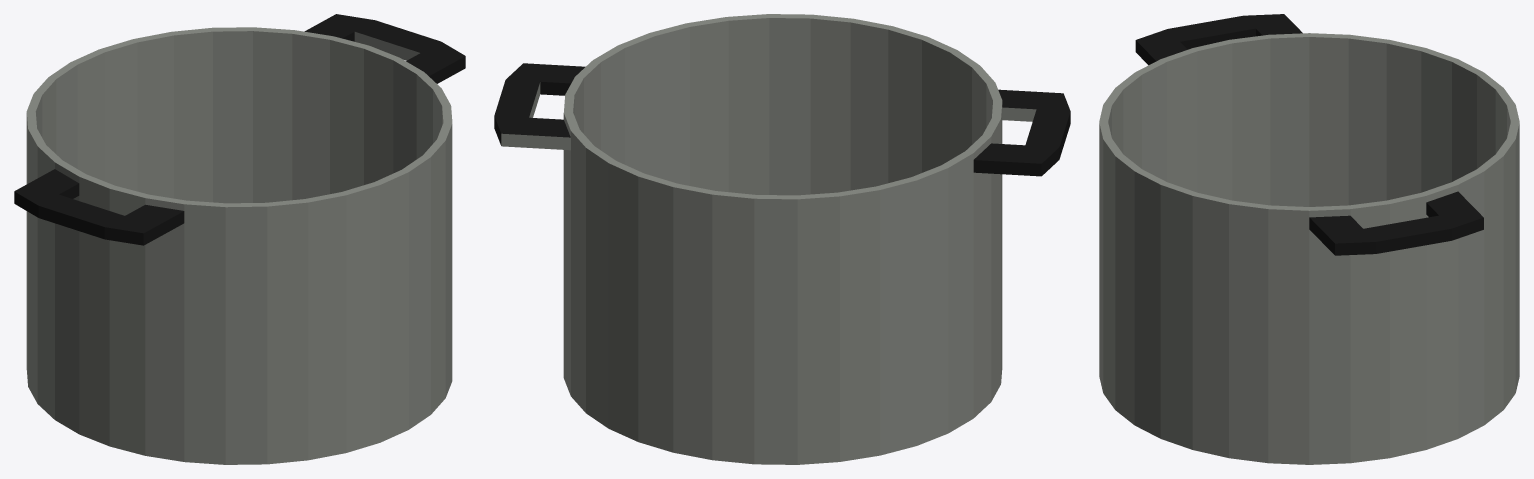
File: olla_1.obj
The picture shows the model from 3 angles, left to right: view 1: azimuth 30°, elevation 25°; view 2: azimuth 150°, elevation 25°; view 3: azimuth 270°, elevation 25°; orthographic projection. The views are drawn at different scales.
Visible parts, largest first — view 1: Cilindro.009; view 2: Cilindro.009; view 3: Cilindro.009.
Boxes of the visible parts, x1,y1,x2,y2 form: Cilindro.009: (14,14,465,464); Cilindro.009: (494,14,1070,464); Cilindro.009: (1099,14,1519,464).
Size of the model in its own units: 0.5813 by 0.3 by 0.45.
